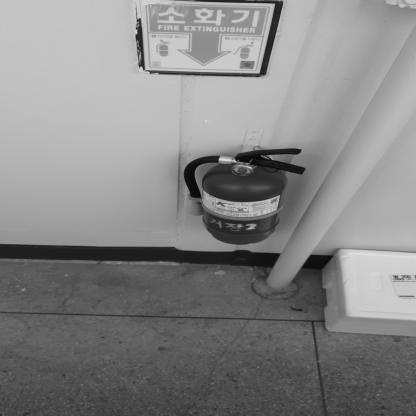FE: (184, 149, 306, 244)
